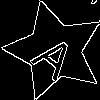A: (29, 26, 87, 84)
